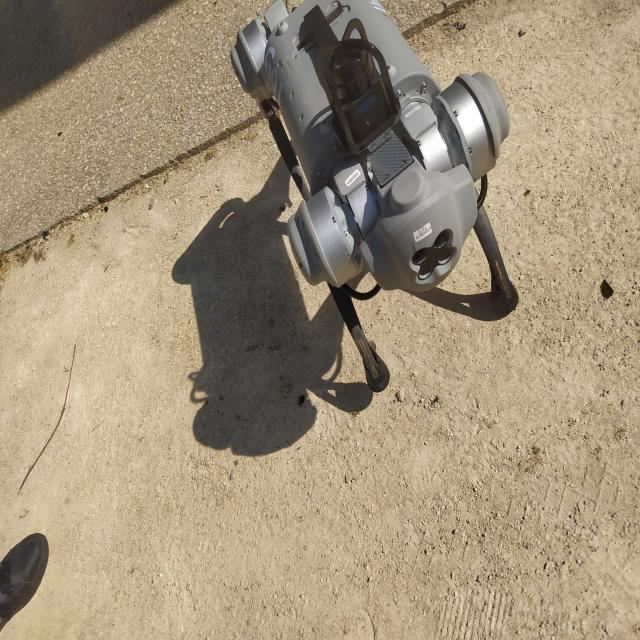unitree-go1-robot: (226, 0, 533, 411)
